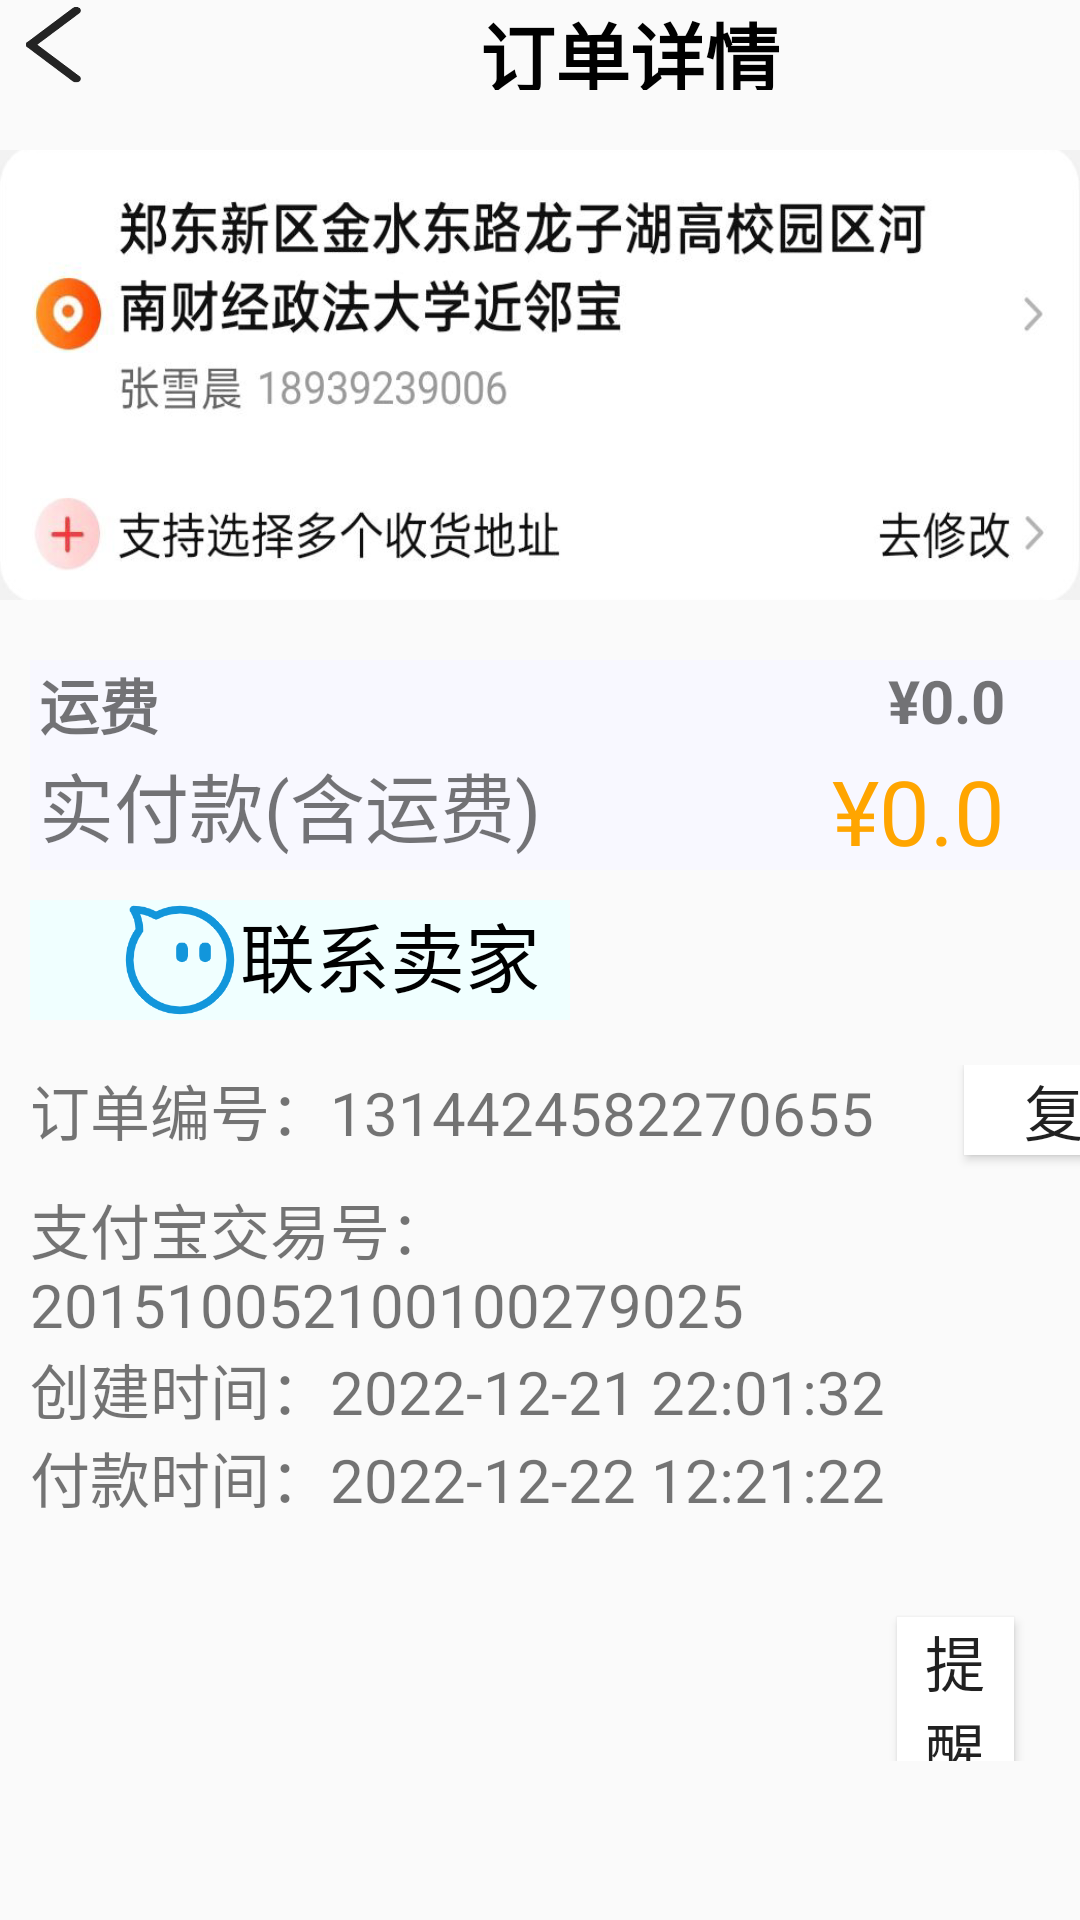

Named icons in this screenshot (1080 x 1920) and their centers, [x,y]:
fanhui: [53,45]
kefu order: [180,960]
